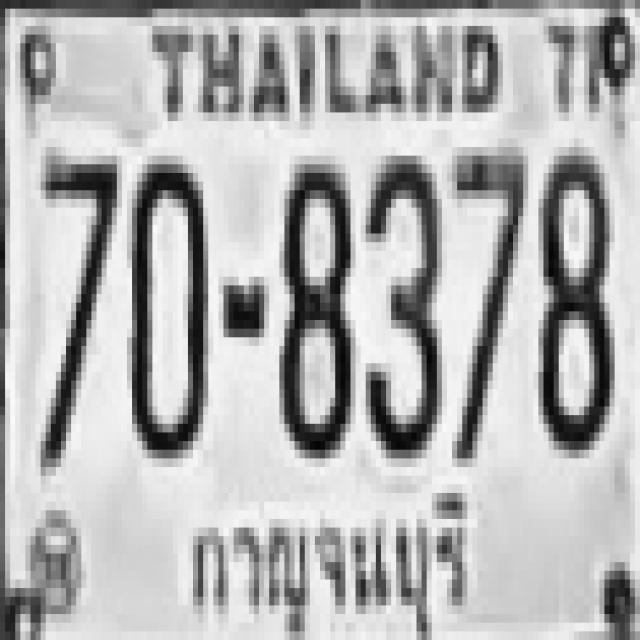Kanchanaburi: (178, 490, 504, 636)
